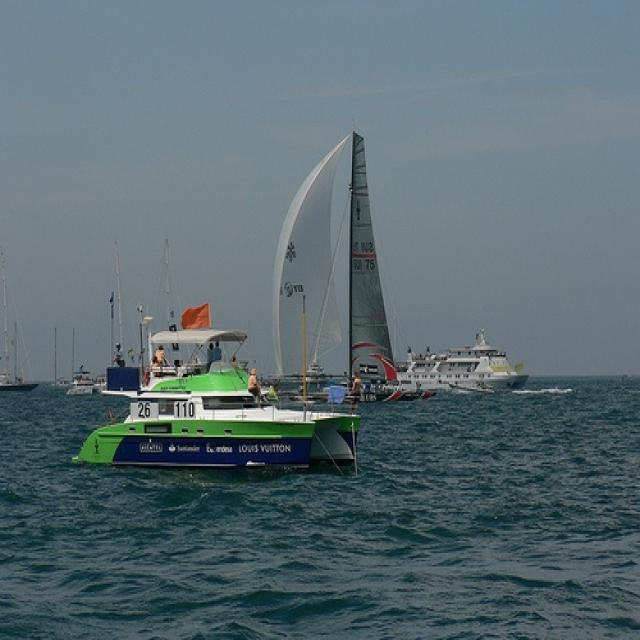boat: (268, 121, 426, 403), (73, 326, 358, 471), (401, 329, 527, 391)
